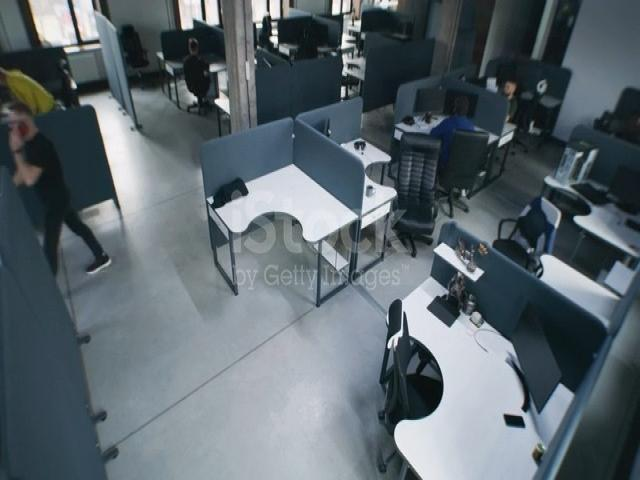empty chair: (354, 286, 434, 474), (498, 182, 566, 297), (391, 121, 444, 256), (112, 12, 154, 90), (335, 48, 372, 107), (55, 64, 87, 121)
occupiedchair: (444, 82, 494, 220), (494, 66, 540, 168), (589, 77, 640, 162), (181, 28, 221, 117)
